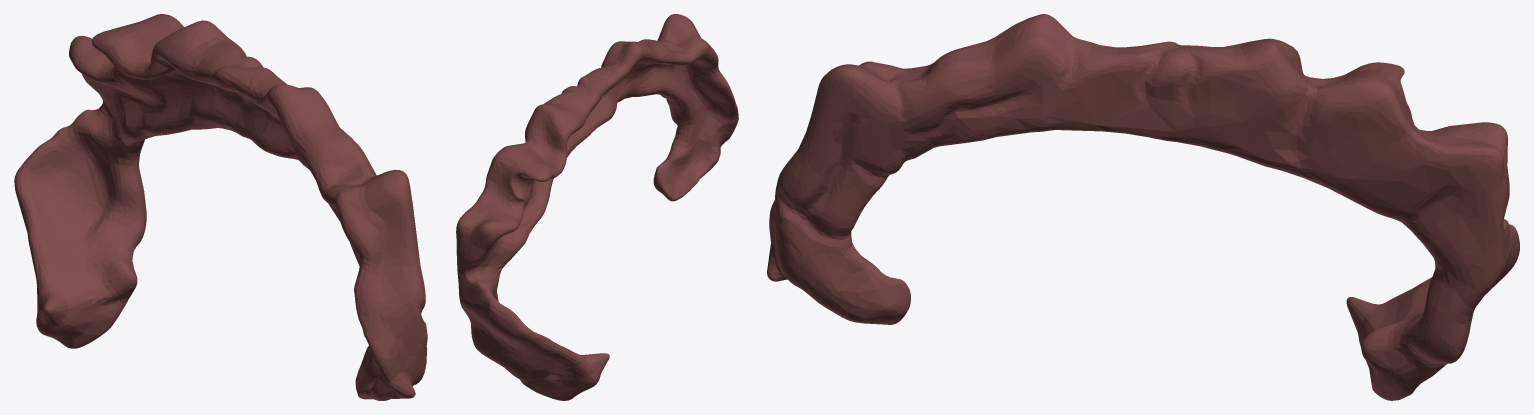
Rendered from Cingulate_gyrus_right.obj.
3 views of the same model, side by side, from view 1: azimuth 30°, elevation 25°; view 2: azimuth 150°, elevation 25°; view 3: azimuth 270°, elevation 25° (orthographic). The views are drawn at different scales.
Visible parts, largest first — view 1: obj0; view 2: obj0; view 3: obj0.
Boxes of the visible parts, x1=… form: obj0: x1=14, y1=14, x2=427, y2=400; obj0: x1=456, y1=14, x2=738, y2=400; obj0: x1=767, y1=14, x2=1519, y2=400.
Size of the model in its own units: 19.5 by 45.85 by 76.51.
Materials: 1 (1 with a texture image).
